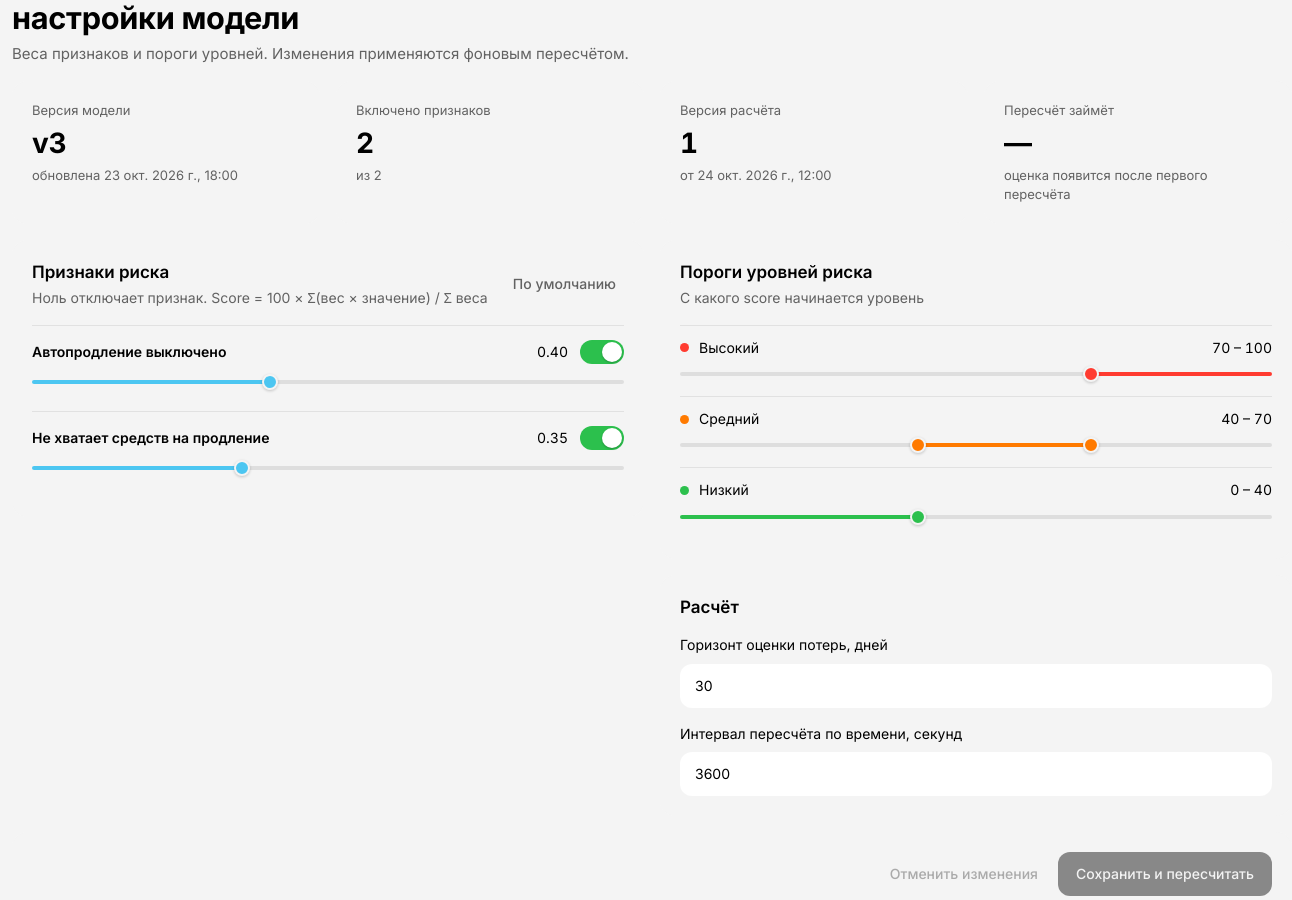
Test: ModelPage › shows why a background recalculation failed
Step 1. Replace the text in the number field labelled "Горизонт оценки потерь, дней" with "60" → [976, 686], box x1=680 y1=664 x2=1272 y2=708
(page scrolled)
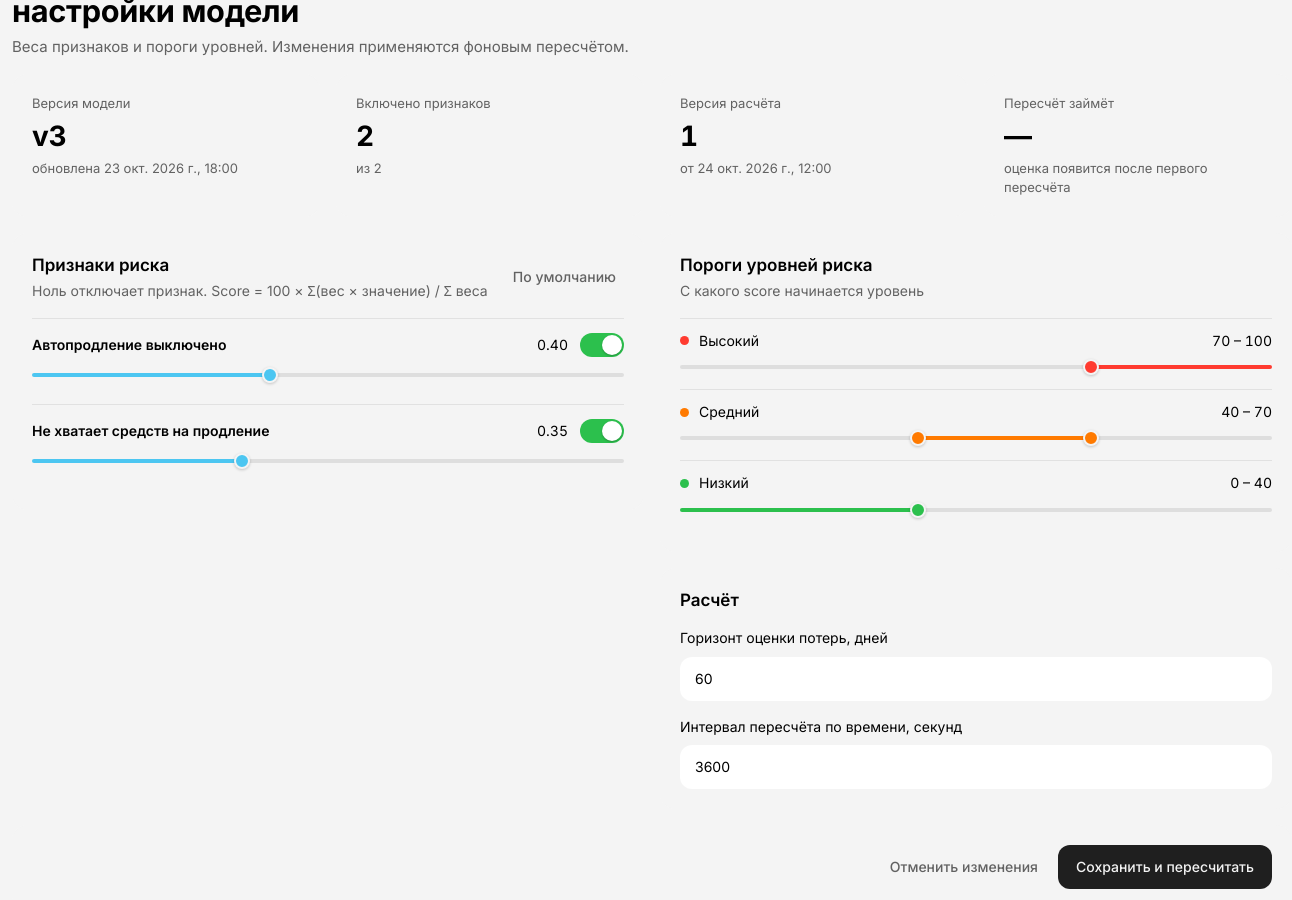
Now the button "Сохранить и пересчитать" is enabled, box x1=1058 y1=845 x2=1272 y2=889
Step 2. Submit the form named "Сохранить и пересчитать"
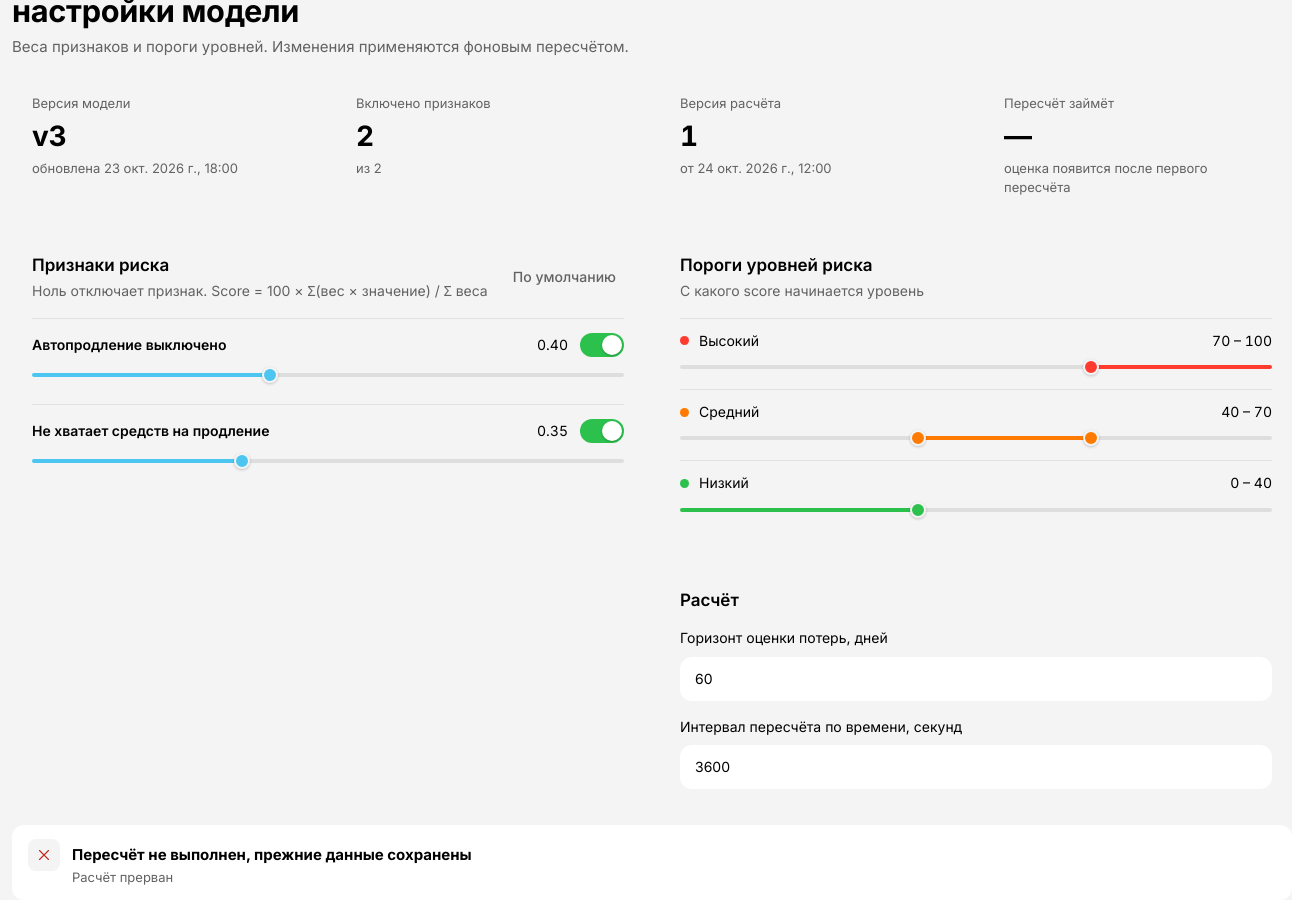
Now the text "Пересчёт не выполнен, прежние данные сохранены" is shown, box x1=72 y1=845 x2=472 y2=864
Now the text "Расчёт прерван" is shown, box x1=72 y1=868 x2=173 y2=884
